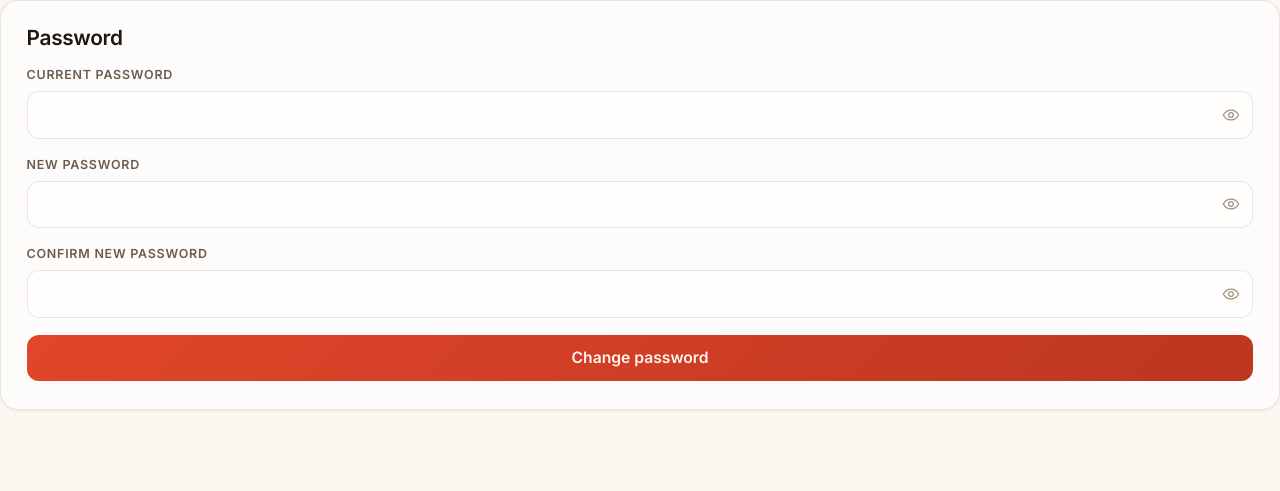
Test case: SecurityPanel › surfaces a rejected current password without clearing the form
In the password field labelled "Current password": {"x": 640, "y": 115} [27,91,1253,139], type "wrongpassword"
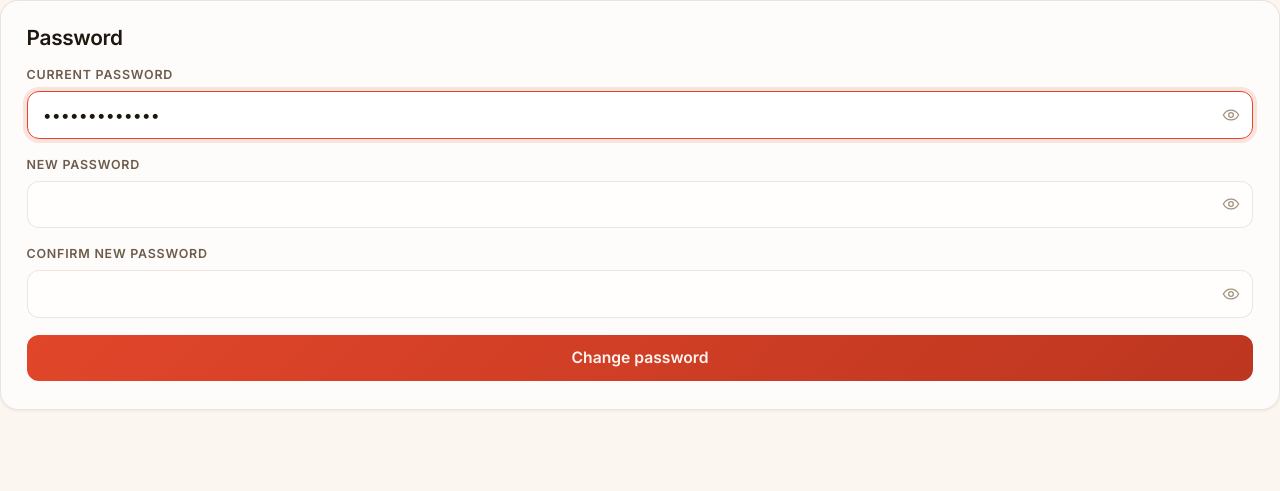
In the password field labelled "New password": {"x": 640, "y": 204} [27,181,1253,228], type "newpassword1"
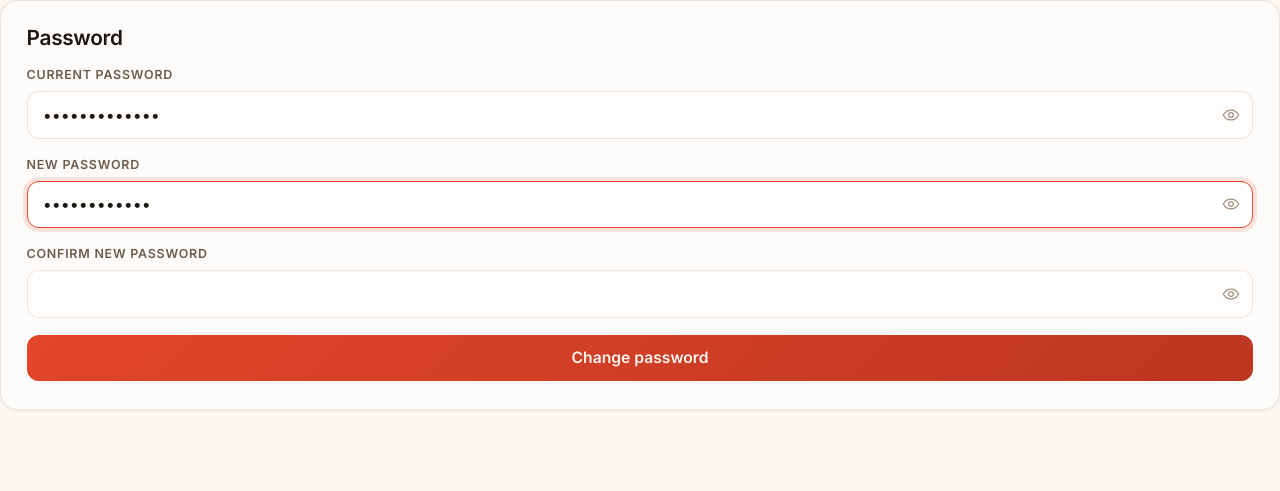
In the password field labelled "Confirm new password": {"x": 640, "y": 294} [27,270,1253,318], type "newpassword1"
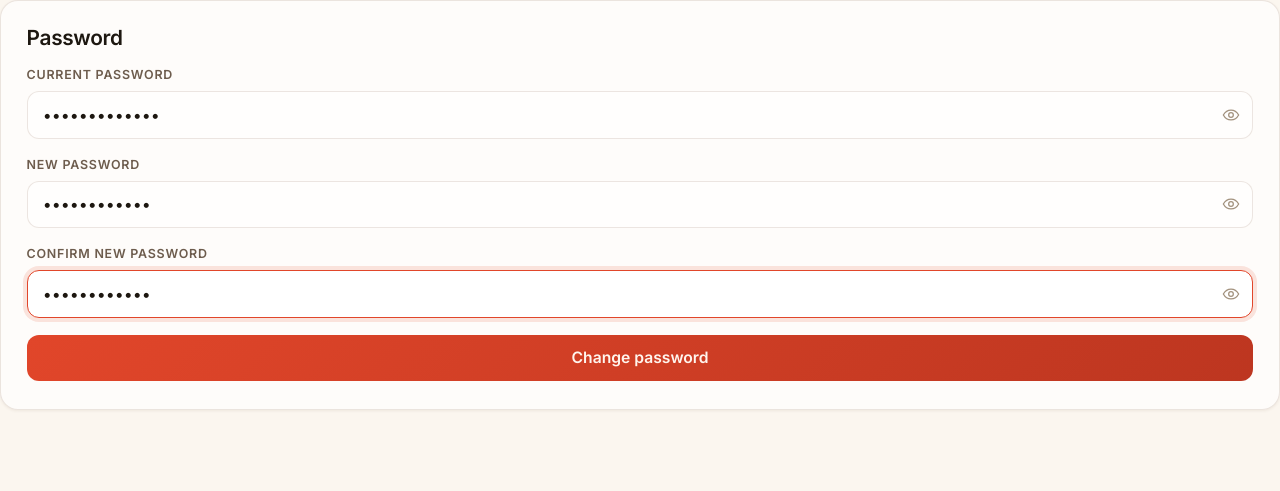
Click the button "Change password": {"x": 640, "y": 358} [27,334,1253,381]
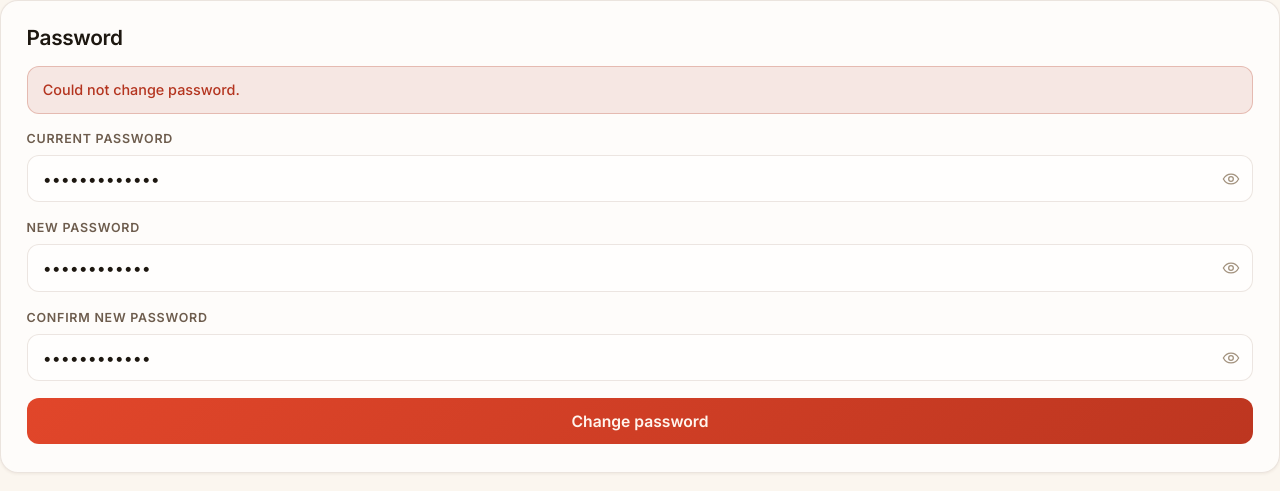
Check: the text "Could not change password." is shown, box [27,66,1253,114]
